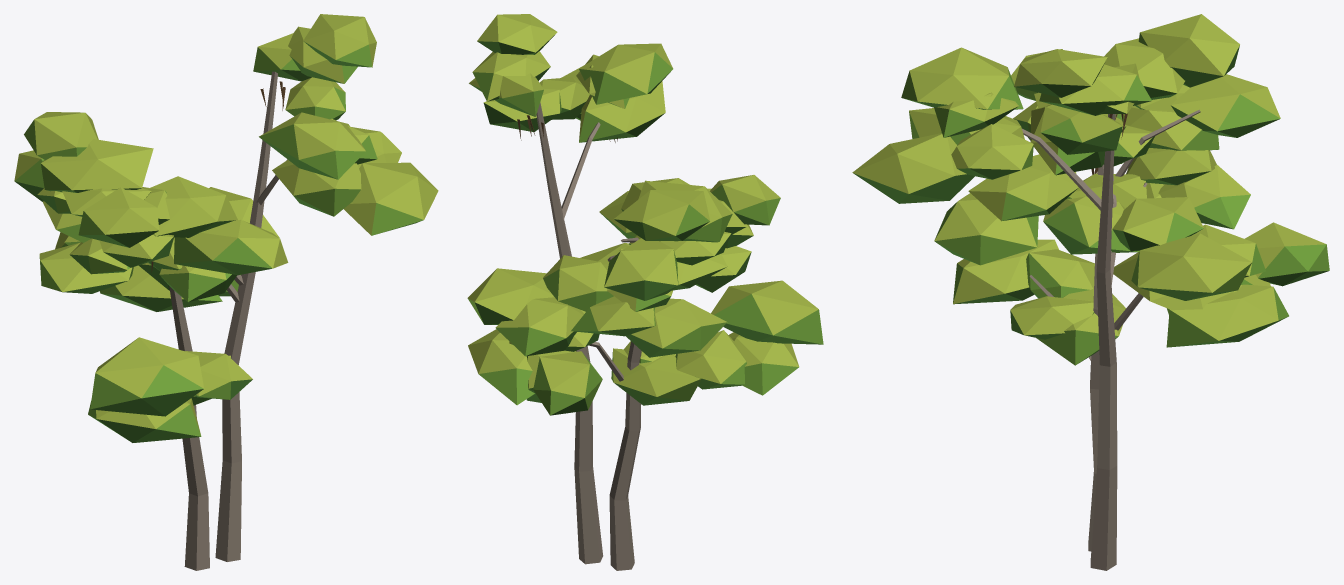
Rendered from T06_IpilIpilTwinTrunk.glb.
3 renders of one model, left to right at view 1: azimuth 30°, elevation 25°; view 2: azimuth 150°, elevation 25°; view 3: azimuth 270°, elevation 25°, orthographic. The views are drawn at different scales.
Visible parts, largest first — view 1: T06_IpilIpilTwinTrunk; view 2: T06_IpilIpilTwinTrunk; view 3: T06_IpilIpilTwinTrunk.
Part boxes in pixels (x1,y1,x2,y2): T06_IpilIpilTwinTrunk: (14,14,438,570); T06_IpilIpilTwinTrunk: (467,14,823,570); T06_IpilIpilTwinTrunk: (852,14,1329,570).
Size of the model in its own units: 3.54 by 5.65 by 4.33.
